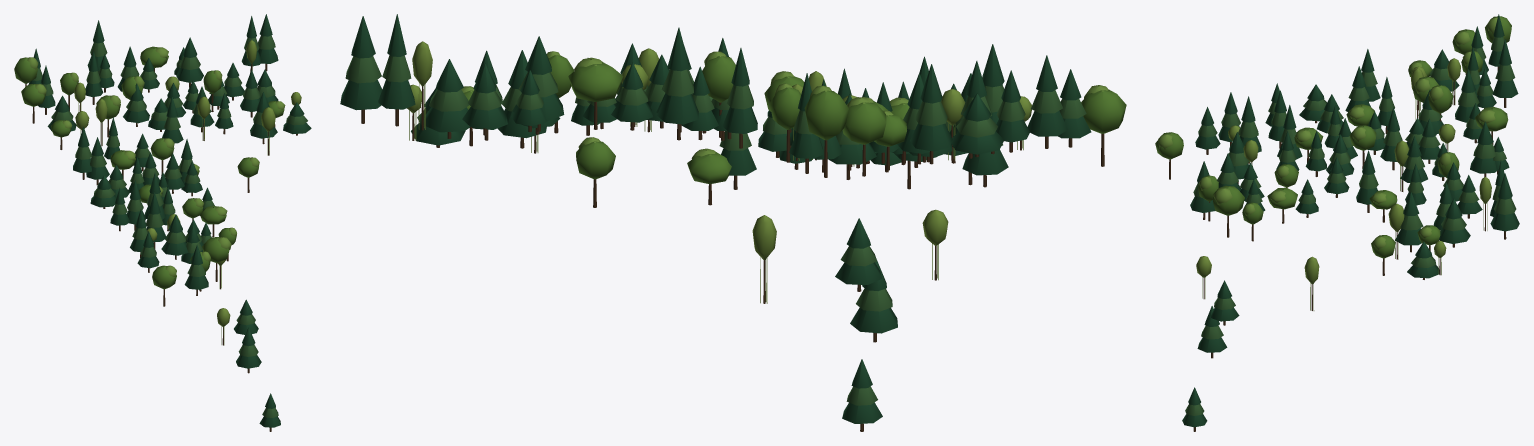
Rendered from forest_2_6.dae.
The picture shows the model from 3 angles, left to right: view 1: azimuth 30°, elevation 25°; view 2: azimuth 150°, elevation 25°; view 3: azimuth 270°, elevation 25°; orthographic projection. The views are drawn at different scales.
Parts seen in each view (by area): view 1: forest_2_6; view 2: forest_2_6; view 3: forest_2_6.
Boxes of the visible parts, x1=… form: forest_2_6: x1=14, y1=14, x2=311, y2=431; forest_2_6: x1=340, y1=14, x2=1126, y2=431; forest_2_6: x1=1155, y1=14, x2=1519, y2=431.
Size of the model in its own units: 133 by 134 by 150.
